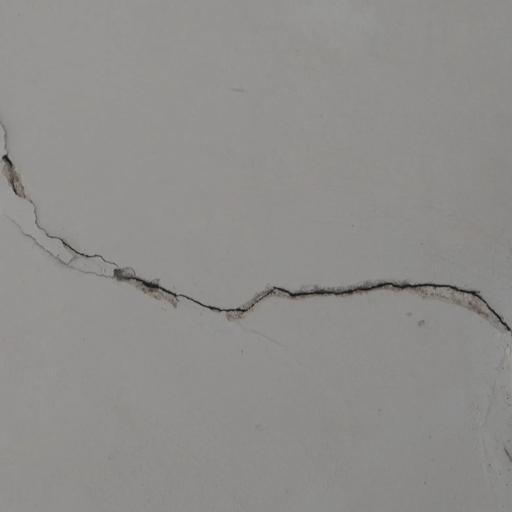major_crack: (0, 106, 512, 359)
